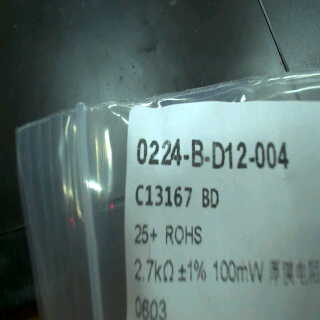2.7kR: (129, 252, 177, 293)
